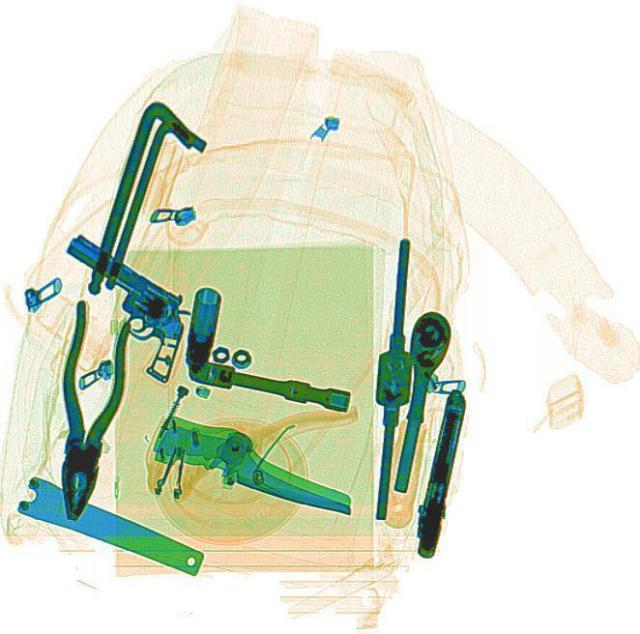Gun: (24, 232, 210, 380), (409, 387, 467, 556)
Pliers: (39, 297, 134, 520)
